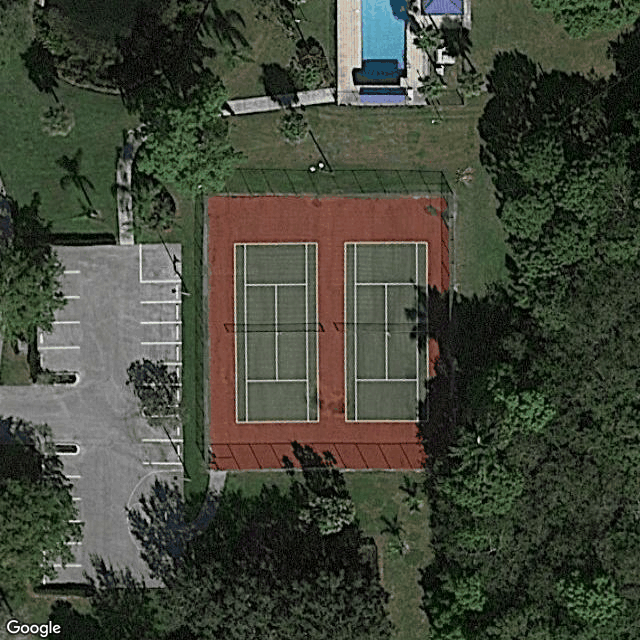Court: (341, 240, 431, 424), (231, 241, 320, 424)
